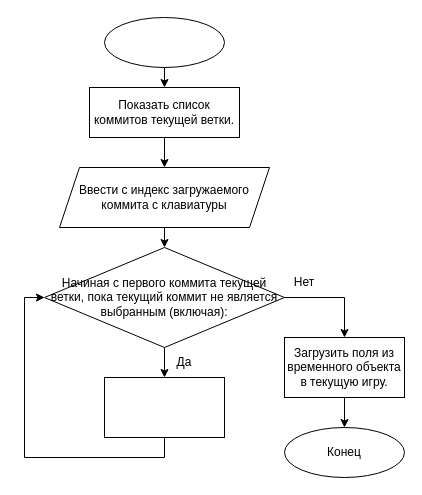
The diagram is 422 pixels wide and 495 high, and some of its shapes have lost their labels. Here are the shapes that lost their labels. From the top down, the centre of each, then its label:
At point 164,42: "Начало".
At point 164,407: "Загрузить поля из текущего коммита во временный объект.".
